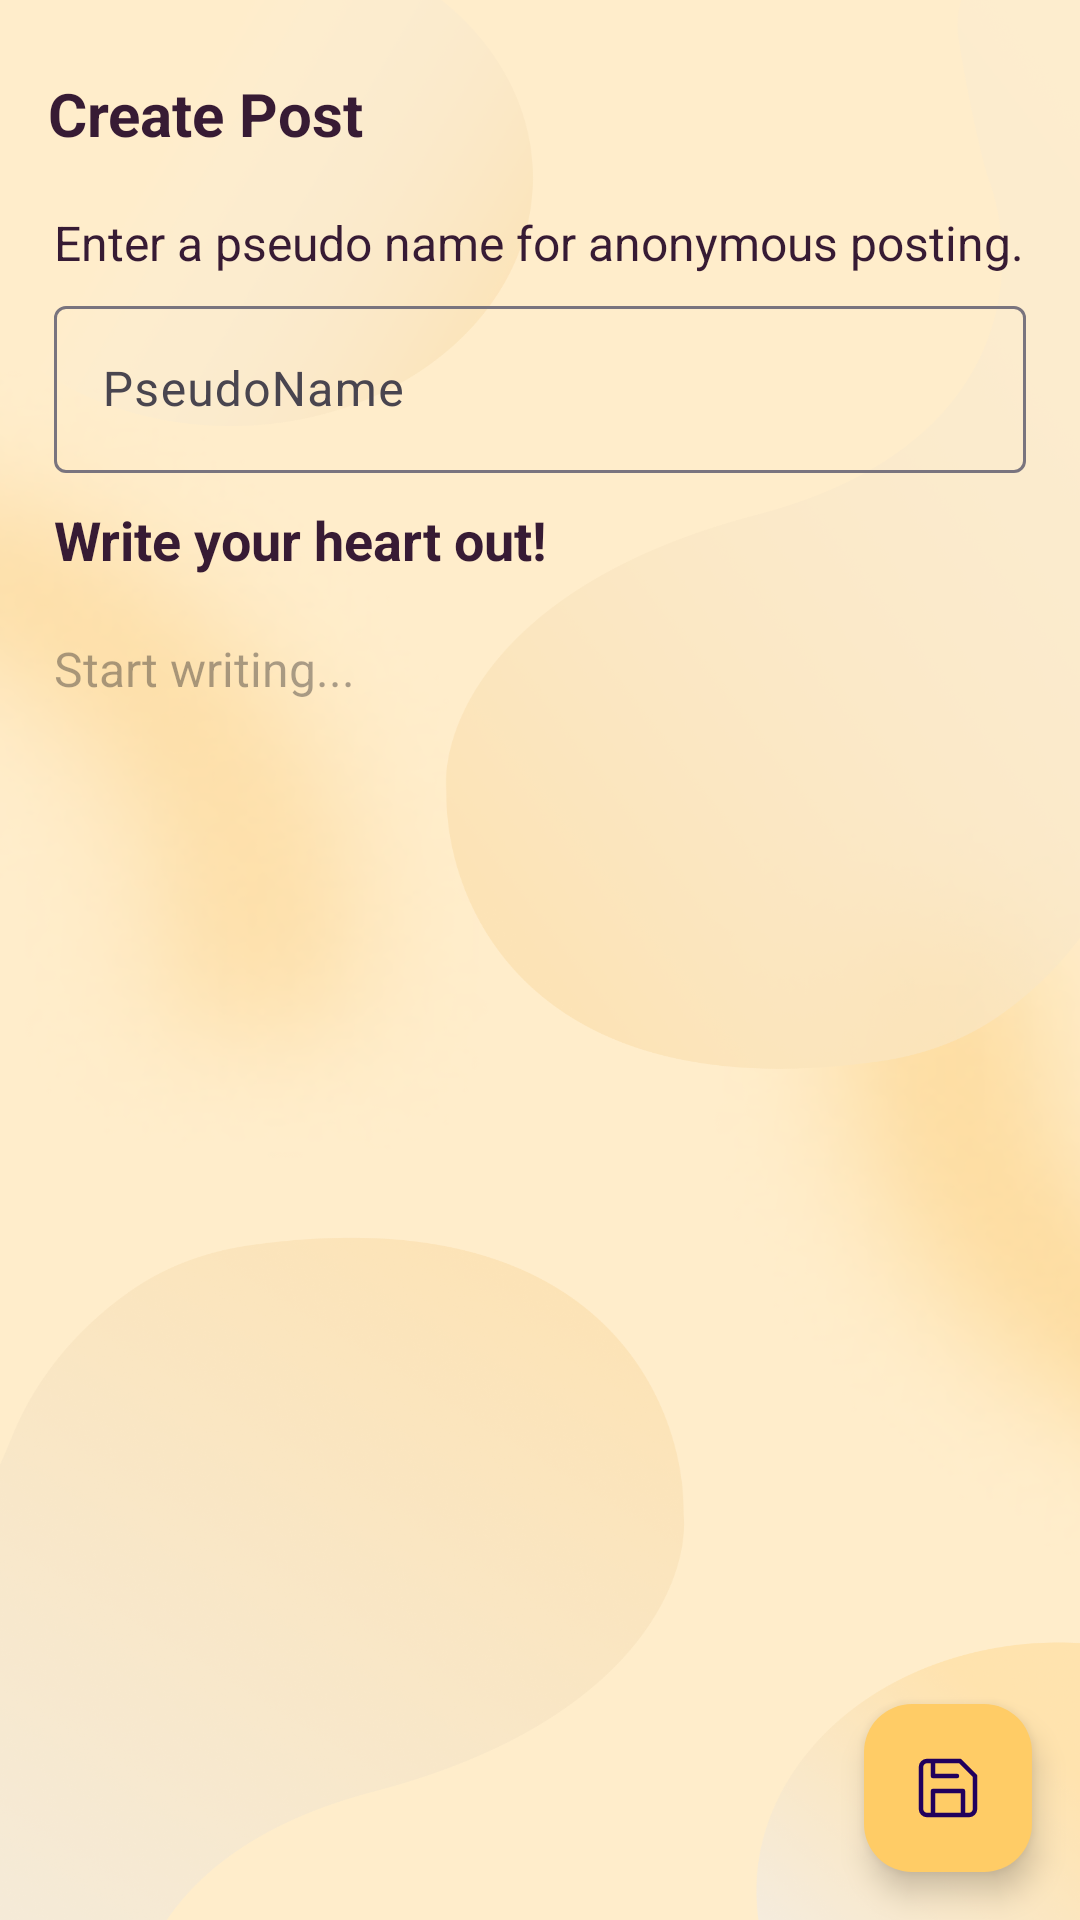

Locate icon controls on the screen. Image size 1080x1920, boxes as (x1, y1, x2, y2).
Save Post: (864, 1704, 1032, 1872)
